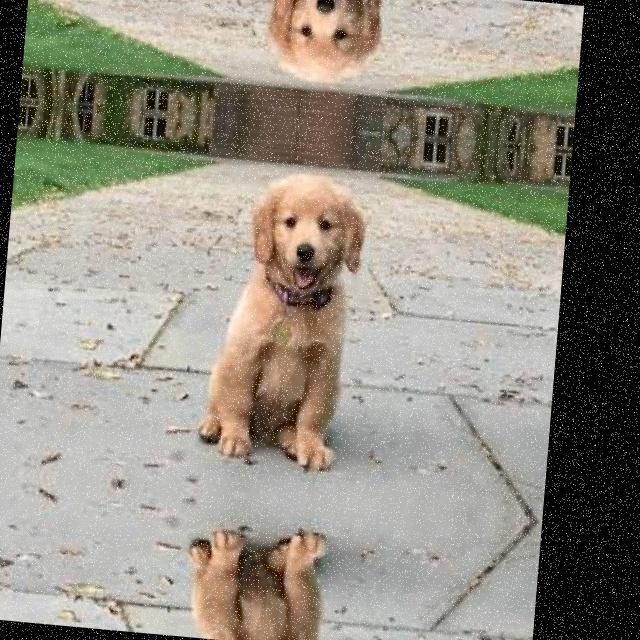dog: (190, 161, 378, 478), (176, 516, 348, 640), (222, 0, 392, 91)
